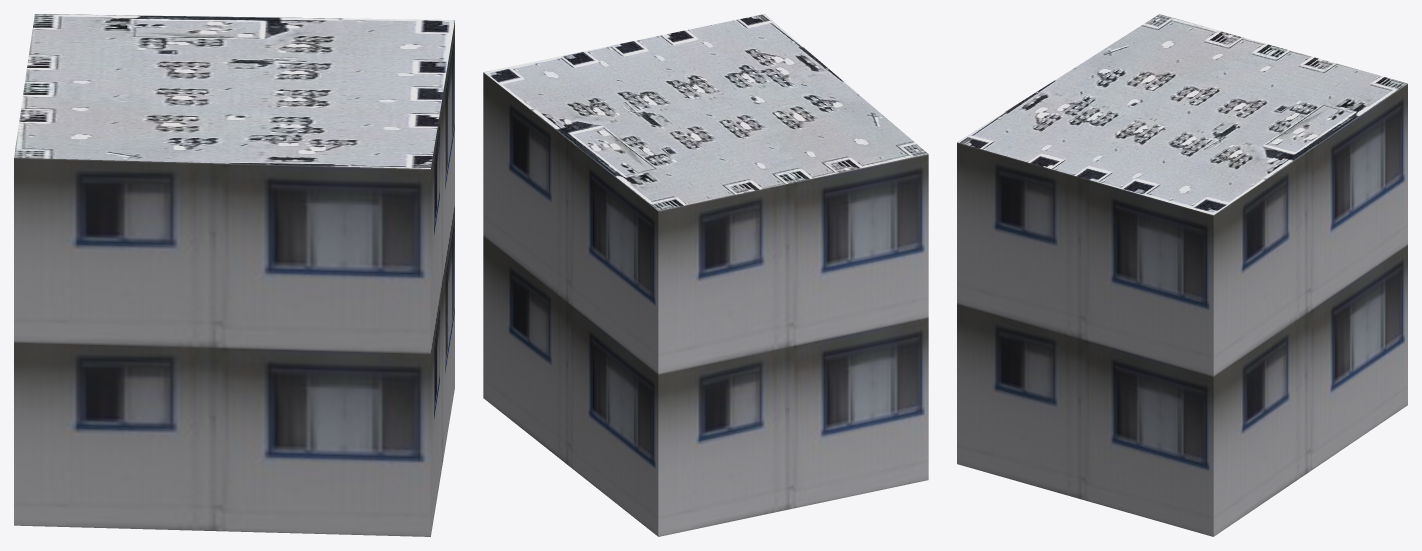
Rendered from ResTex__3294.fbx.
3 views of the same model, side by side, from view 1: azimuth 30°, elevation 25°; view 2: azimuth 150°, elevation 25°; view 3: azimuth 270°, elevation 25° (orthographic). The views are drawn at different scales.
Visible parts, largest first — view 1: CityEngineMaterial_9_m, CityEngineMaterial_2_m; view 2: CityEngineMaterial_9_m, CityEngineMaterial_2_m; view 3: CityEngineMaterial_9_m, CityEngineMaterial_2_m.
Boxes of the visible parts, x1,y1,x2,y2 form: CityEngineMaterial_9_m: (14,21,454,536); CityEngineMaterial_2_m: (14,14,454,168); CityEngineMaterial_9_m: (483,72,928,536); CityEngineMaterial_2_m: (483,14,928,210); CityEngineMaterial_9_m: (957,84,1407,536); CityEngineMaterial_2_m: (957,14,1407,215).
Bounding box in the file's own units: 8.05 × 6 × 7.62.
2 materials, 2 textured.
